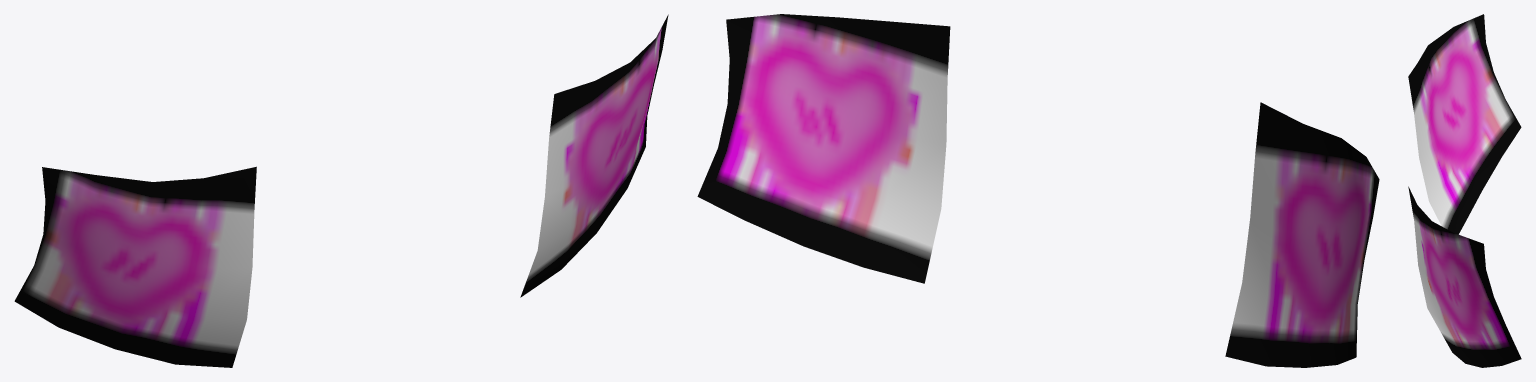
The model's file is heart_cheeks.fbx.
The picture shows the model from 3 angles, left to right: view 1: azimuth 30°, elevation 25°; view 2: azimuth 150°, elevation 25°; view 3: azimuth 270°, elevation 25°; orthographic projection. The views are drawn at different scales.
Parts seen in each view (by area): view 1: cheeks2, cheeks3; view 2: cheeks3, cheeks2; view 3: cheeks2, cheeks3.
Part boxes in pixels (x1,y1,x2,y2): cheeks2: (14, 166, 256, 367); cheeks3: (520, 14, 668, 297); cheeks3: (697, 14, 950, 283); cheeks2: (1225, 102, 1379, 367); cheeks2: (1408, 14, 1521, 234); cheeks3: (1408, 186, 1521, 367).
Size of the model in its own units: 0.587 by 0.2019 by 0.1214.
1 material, 1 textured.
